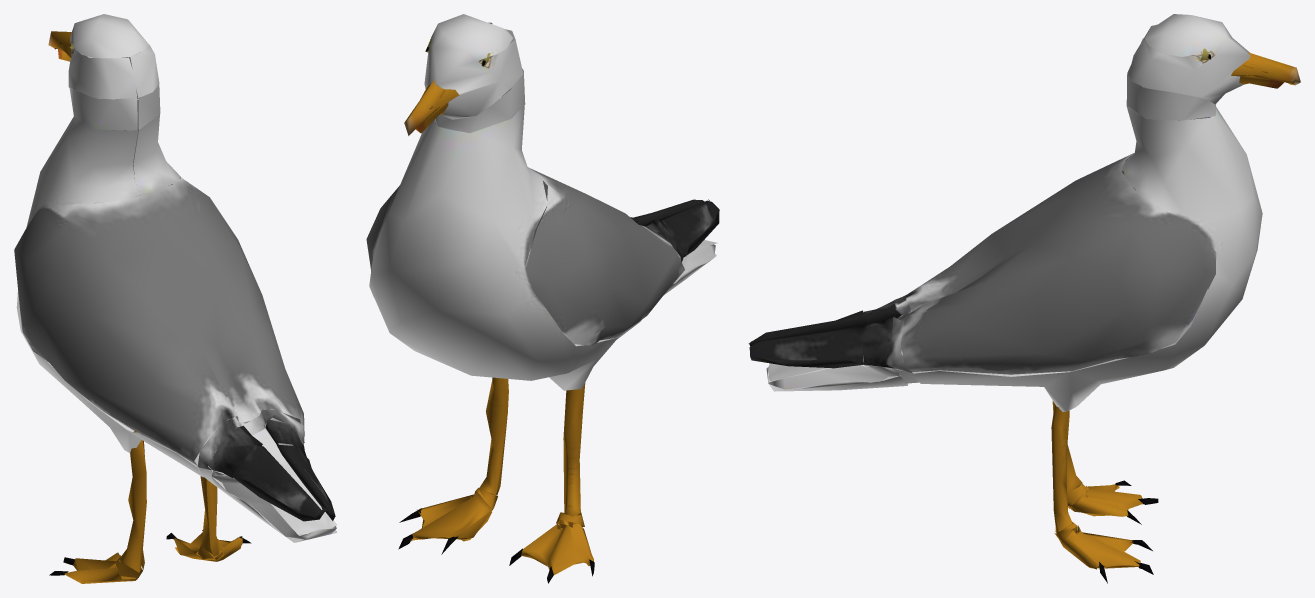
Rendered from gull_hi.glb.
3 renders of one model, left to right at view 1: azimuth 30°, elevation 25°; view 2: azimuth 150°, elevation 25°; view 3: azimuth 270°, elevation 25°, orthographic. The views are drawn at different scales.
Visible parts, largest first — view 1: gull_hi; view 2: gull_hi; view 3: gull_hi.
Part boxes in pixels (x1,y1,x2,y2): gull_hi: (14, 14, 337, 583); gull_hi: (366, 14, 719, 583); gull_hi: (748, 14, 1300, 583).
Size of the model in its own units: 0.24 by 0.5746 by 0.5565.
1 material, 1 textured.
